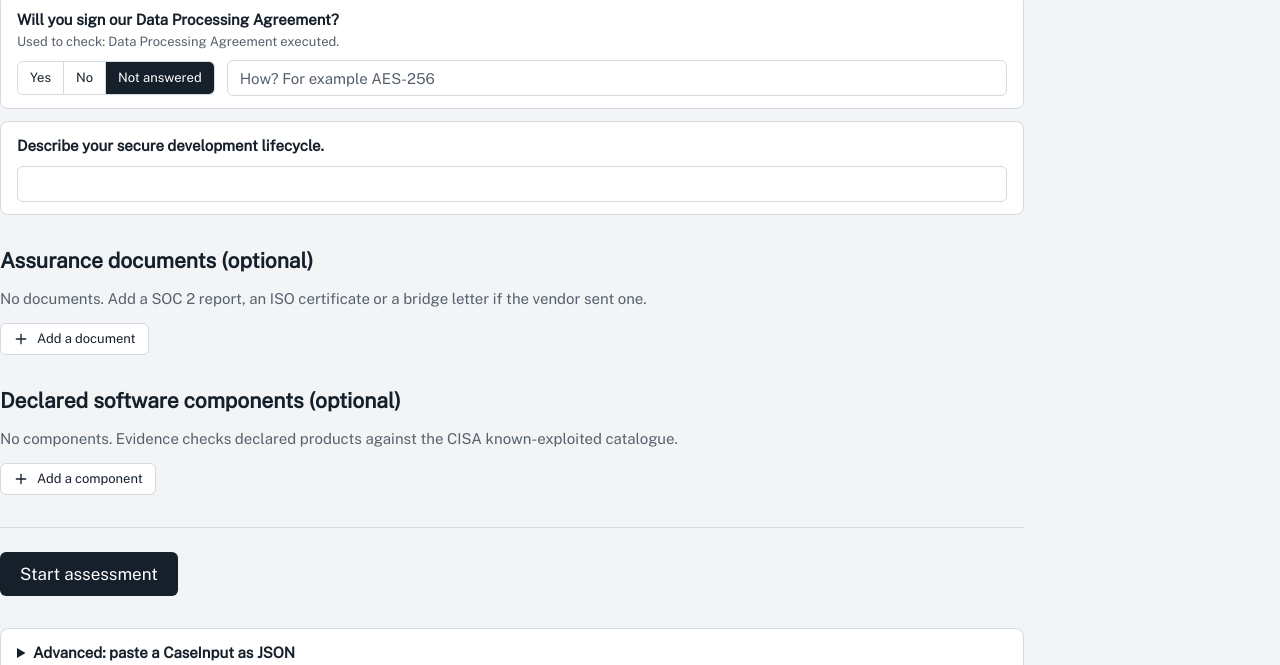
it: New vendor questionnaire › names each problem next to its own field and row
(page scrolled)
Click the button "Add a document". click: click(74, 339)
box: [0, 323, 149, 355]
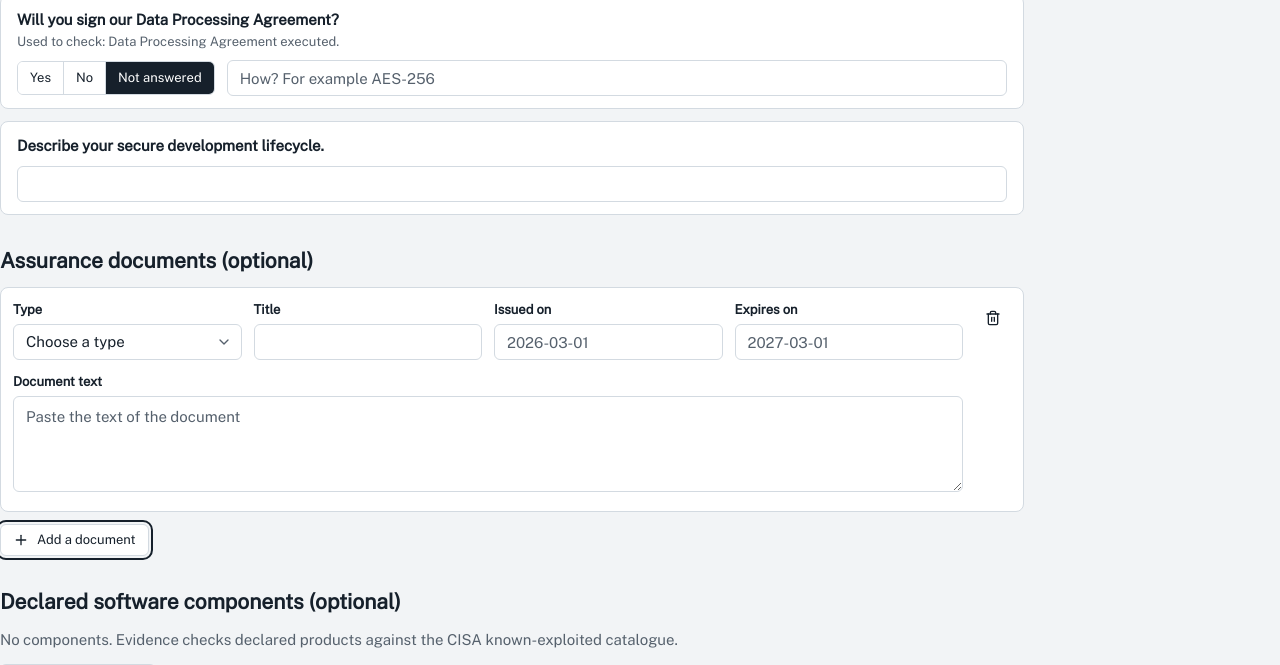
Click the field named "Issued on, row 1". click: click(608, 342)
box: [494, 324, 722, 360]
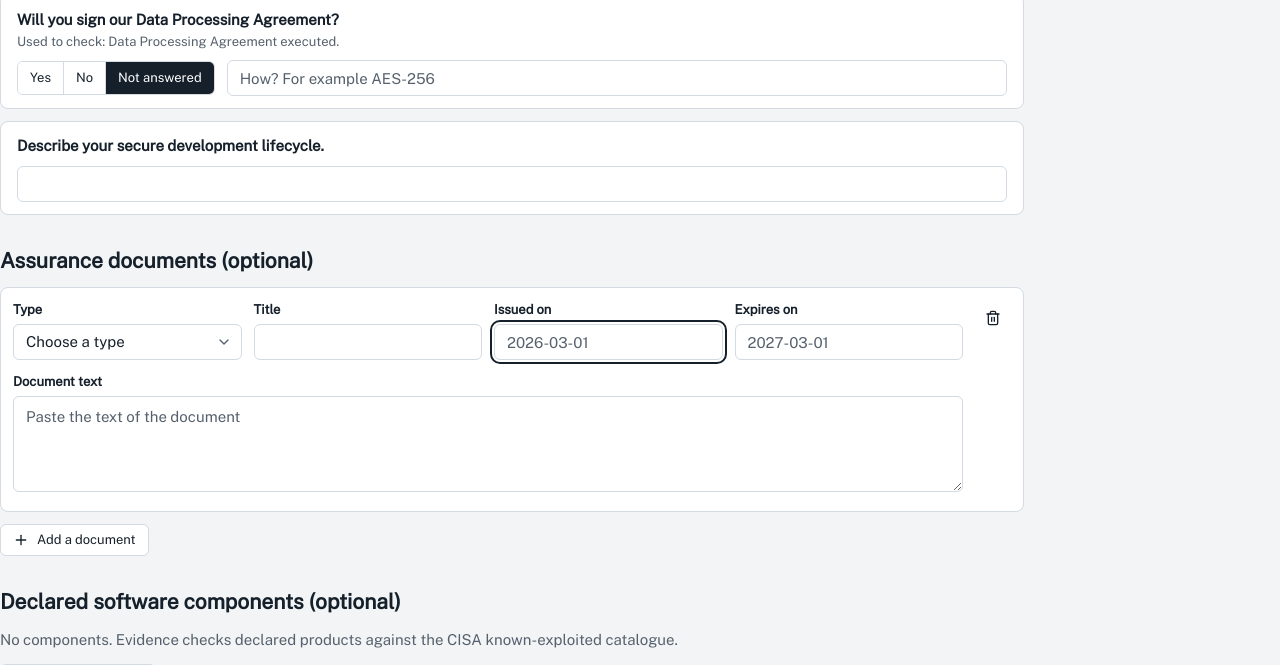
Type keys "March 2026"
(page scrolled)
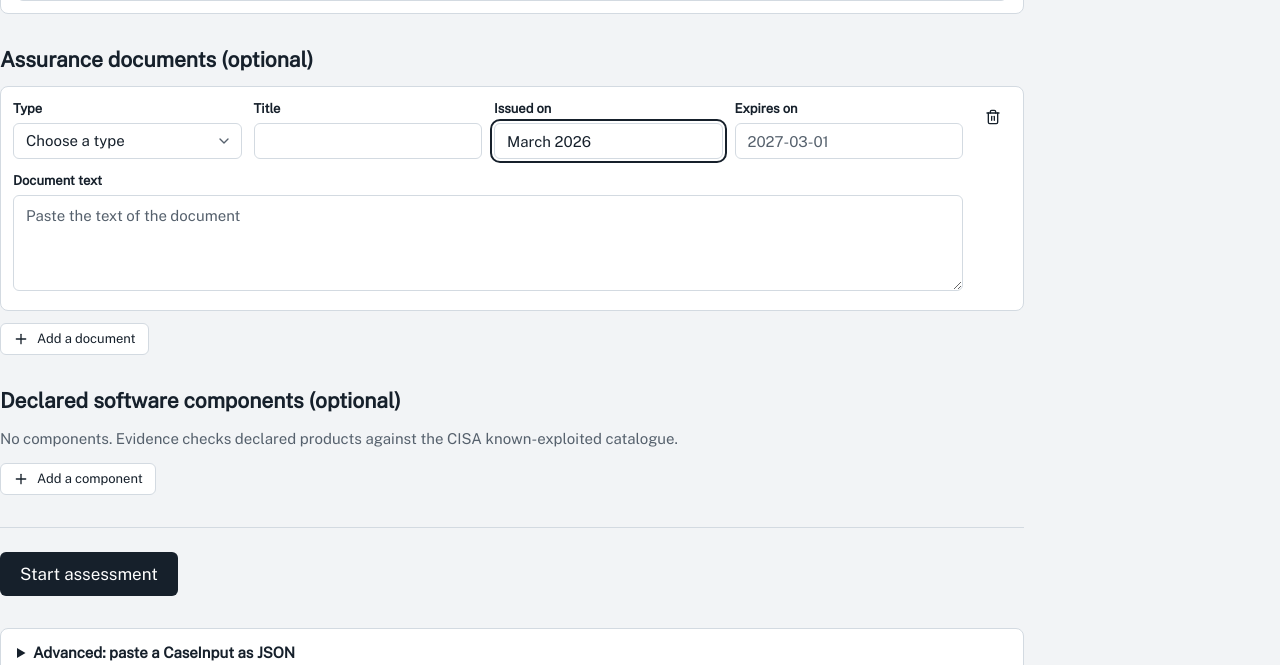
Click the button "Start assessment". click: click(89, 574)
box: [0, 552, 178, 596]
(page scrolled)
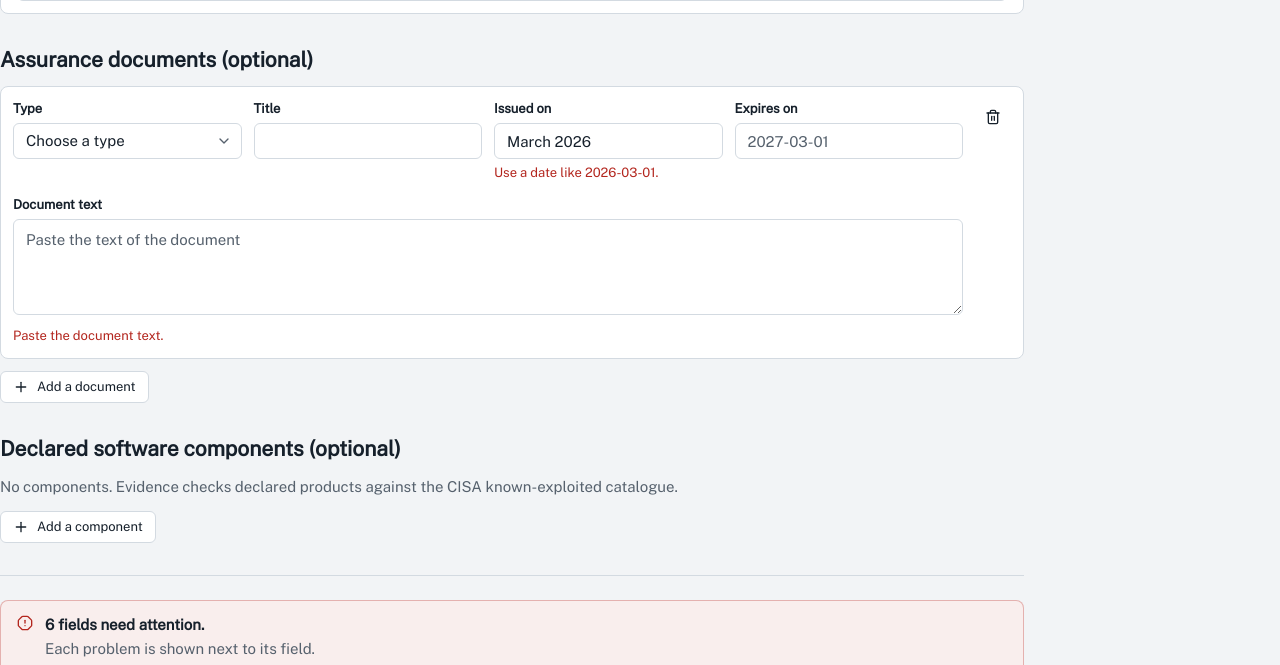
Result: the message with test id "error-documents.0.issued_on" shows "2026-03-01" at [494, 165, 658, 180]
Result: the message "Paste the document text." is shown at [13, 328, 164, 343]
